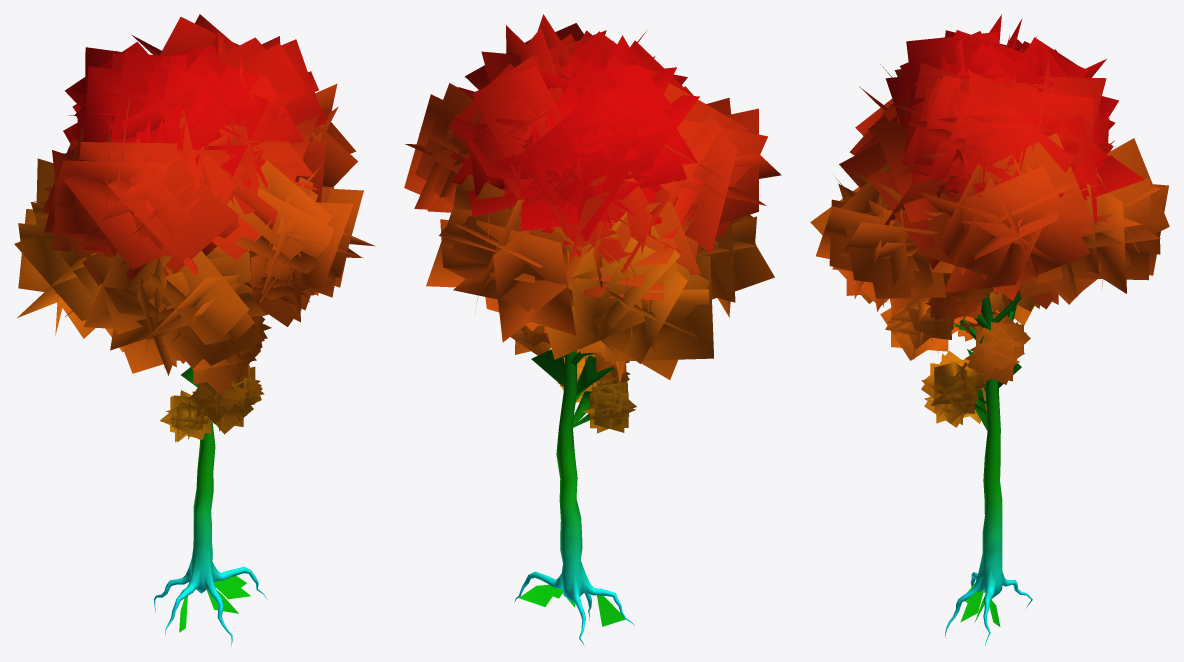
File: Maple4.fbx
The picture shows the model from 3 angles, left to right: view 1: azimuth 30°, elevation 25°; view 2: azimuth 150°, elevation 25°; view 3: azimuth 270°, elevation 25°; orthographic projection.
Parts seen in each view (by area): view 1: Maple4_LOD0; view 2: Maple4_LOD0; view 3: Maple4_LOD0.
Boxes of the visible parts, x1,y1,x2,y2 form: Maple4_LOD0: [14, 14, 375, 646]; Maple4_LOD0: [404, 14, 781, 645]; Maple4_LOD0: [810, 14, 1169, 645].
Size of what is drawn, in the model's own units: 962 by 1731 by 952.
